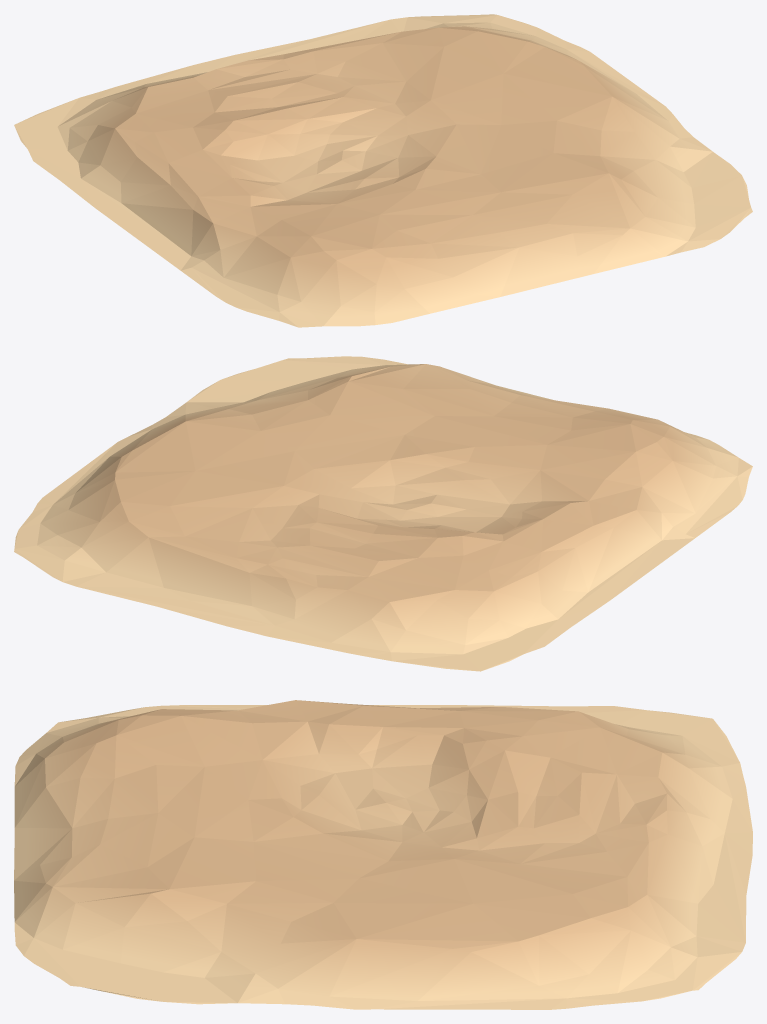
The model's file is Ground 7 M Square.glb.
3 renders of one model, top to bottom at view 1: azimuth 30°, elevation 25°; view 2: azimuth 150°, elevation 25°; view 3: azimuth 270°, elevation 25°, orthographic. The views are drawn at different scales.
Visible parts, largest first — view 1: Ground 7 M square; view 2: Ground 7 M square; view 3: Ground 7 M square.
Boxes of the visible parts, left/top/right/bottom form: Ground 7 M square: left=14, top=14, right=752, bottom=327; Ground 7 M square: left=14, top=356, right=752, bottom=671; Ground 7 M square: left=14, top=700, right=752, bottom=1009.
Size of what is drawn, in the model's own units: 6.74 by 0.4638 by 6.9.
Materials: 1 (1 with a texture image).
